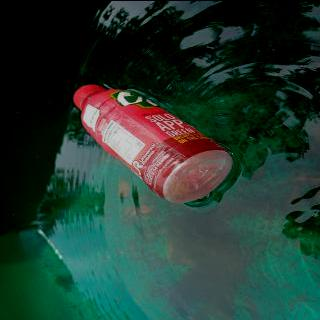bottle: (70, 80, 235, 206)
